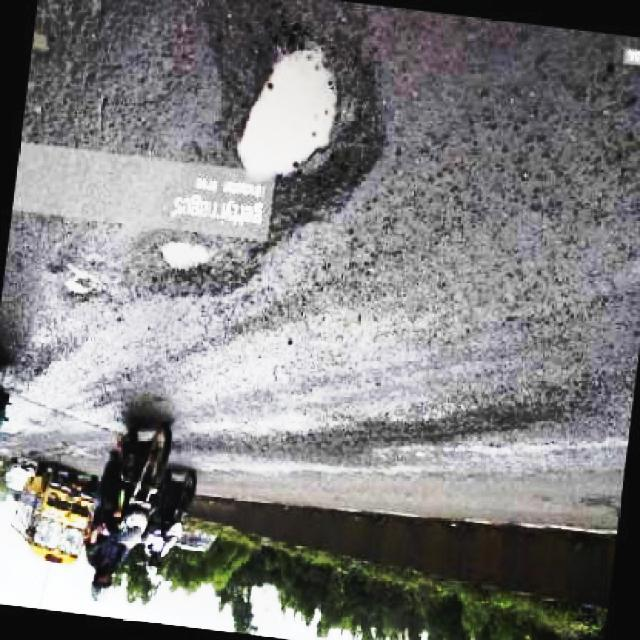pothole: (200, 4, 395, 230), (132, 228, 265, 298), (52, 254, 112, 308)
